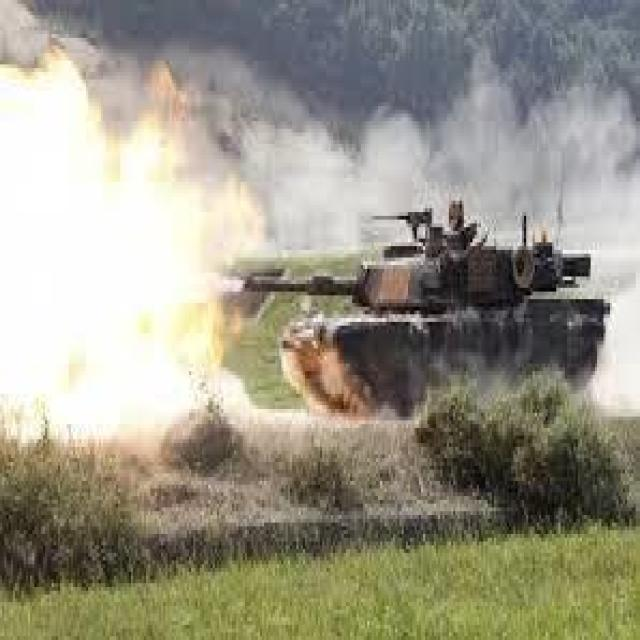Tanks: (204, 184, 569, 418)
